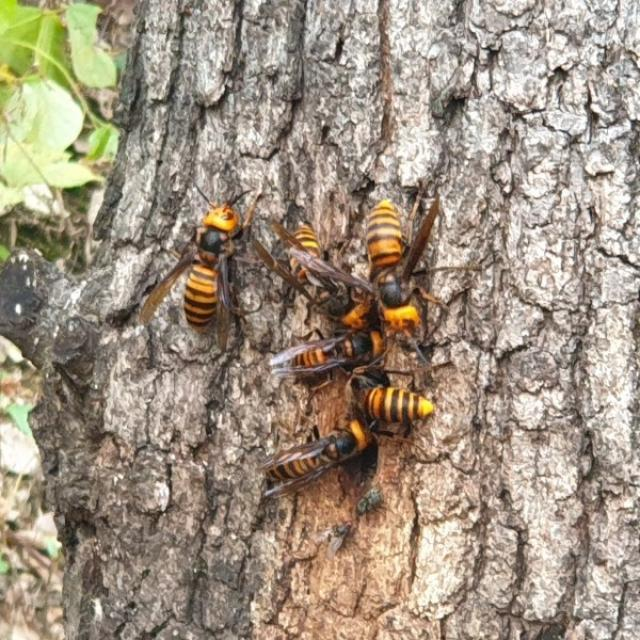Wasp: (348, 185, 436, 351), (149, 183, 230, 330)
